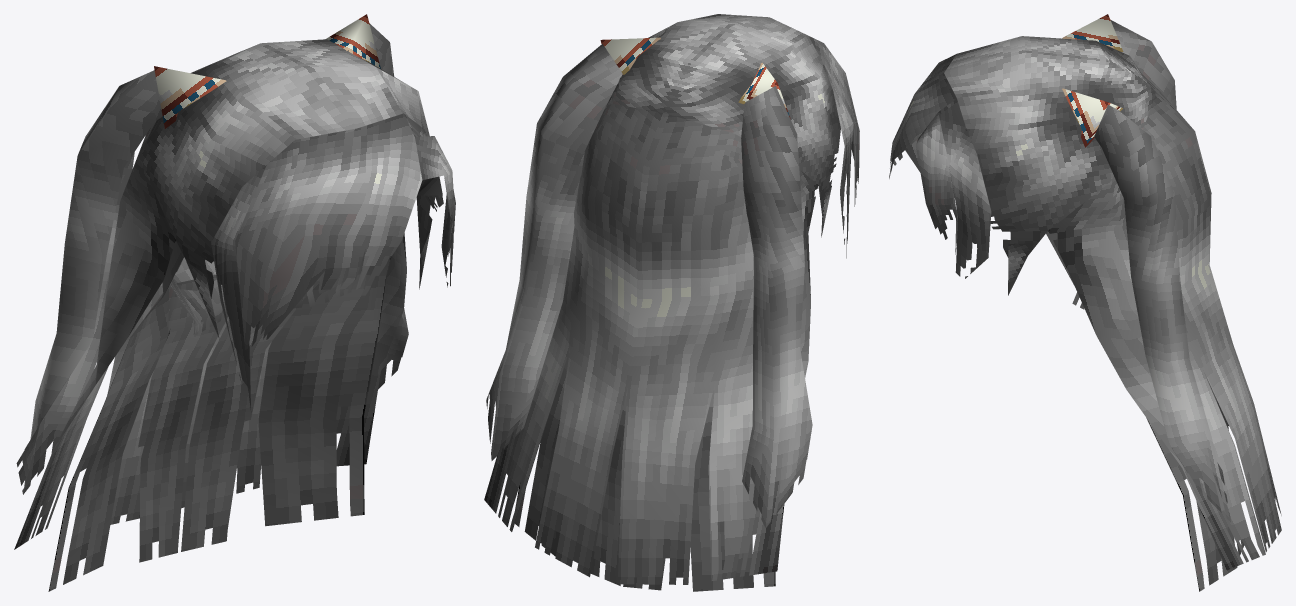
Rendered from f_head021.glb.
3 views of the same model, side by side, from view 1: azimuth 30°, elevation 25°; view 2: azimuth 150°, elevation 25°; view 3: azimuth 270°, elevation 25° (orthographic). The views are drawn at different scales.
Size of the model in its own units: 28.26 by 40.98 by 29.74.
1 material, 1 textured.
